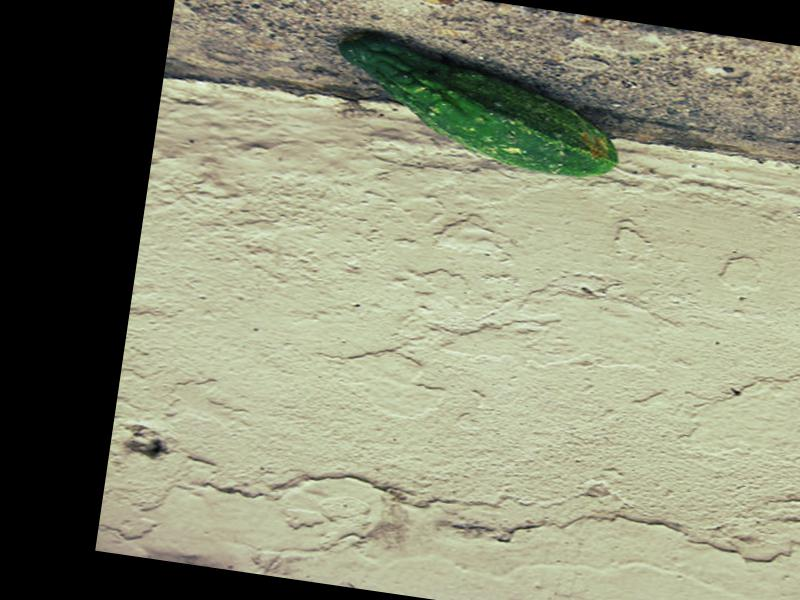Cucumber: (329, 31, 630, 183)
